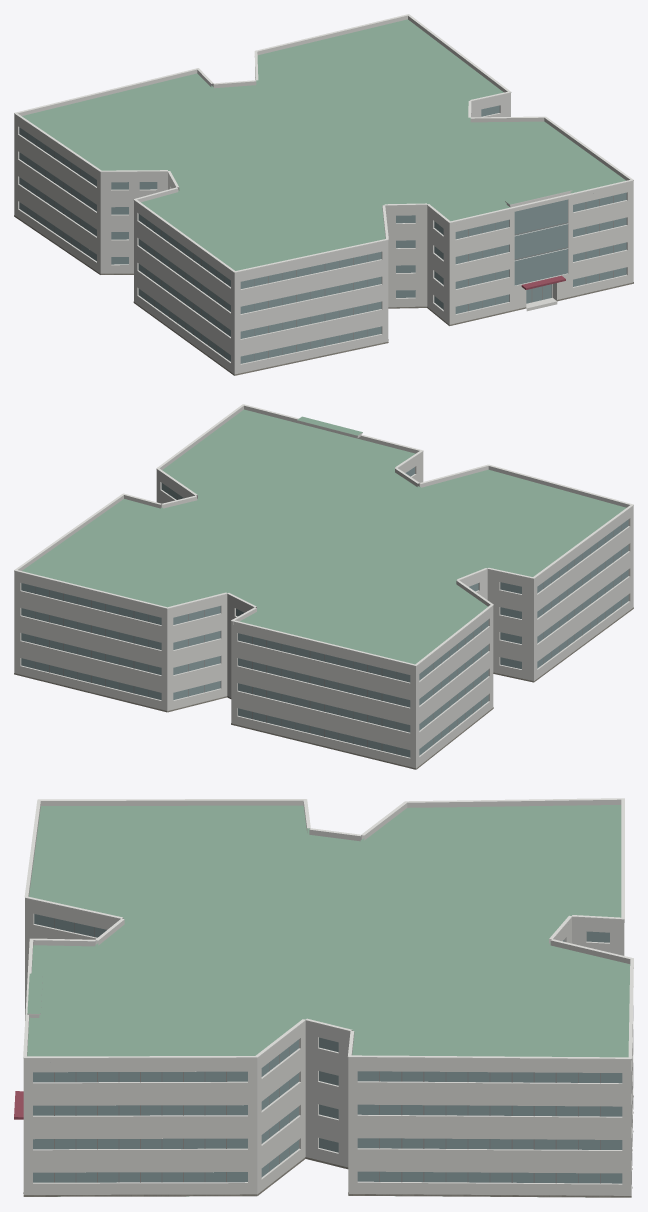
3 views of the same model, one above another, from view 1: azimuth 30°, elevation 25°; view 2: azimuth 150°, elevation 25°; view 3: azimuth 270°, elevation 25° (orthographic). The views are drawn at different scales.
Parts seen in each view (by area): view 1: osm136961730__roof, osm136961730__wall, osm136961730__glass, osm136961730__parapet, osm136961730__trim, osm136961730__base, osm136961730__frame; view 2: osm136961730__roof, osm136961730__wall, osm136961730__glass, osm136961730__parapet, osm136961730__trim, osm136961730__frame, osm136961730__base; view 3: osm136961730__roof, osm136961730__wall, osm136961730__glass, osm136961730__parapet, osm136961730__trim, osm136961730__base, osm136961730__frame.
Part boxes in pixels (x1,y1,x2,y2): osm136961730__roof: (22,19,625,270); osm136961730__wall: (14,67,633,375); osm136961730__glass: (19,105,626,363); osm136961730__parapet: (14,15,633,275); osm136961730__trim: (14,14,633,272); osm136961730__base: (14,215,633,375); osm136961730__frame: (27,133,613,360); osm136961730__roof: (22,409,626,664); osm136961730__wall: (14,421,633,769); osm136961730__glass: (21,467,628,757); osm136961730__parapet: (14,405,633,669); osm136961730__trim: (14,404,633,666); osm136961730__frame: (35,488,621,754); osm136961730__base: (14,607,633,769); osm136961730__roof: (27,805,630,1197); osm136961730__wall: (23,902,633,1195); osm136961730__glass: (33,914,622,1183); osm136961730__parapet: (23,799,631,1063); osm136961730__trim: (23,798,633,1059); osm136961730__base: (23,1095,633,1197); osm136961730__frame: (54,918,600,1183).
Bounding box in the file's own units: 60.17 × 15.85 × 60.46.
Materials: 10 (1 with a texture image).
